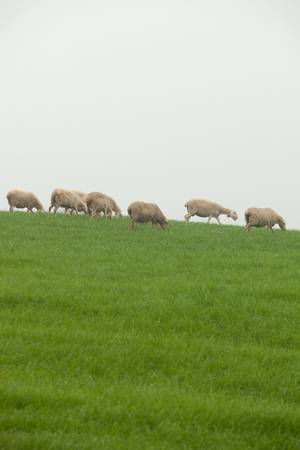sheep: (181, 198, 240, 231), (126, 200, 170, 230), (49, 187, 88, 220), (242, 206, 288, 233), (89, 190, 123, 224), (6, 187, 47, 214)
